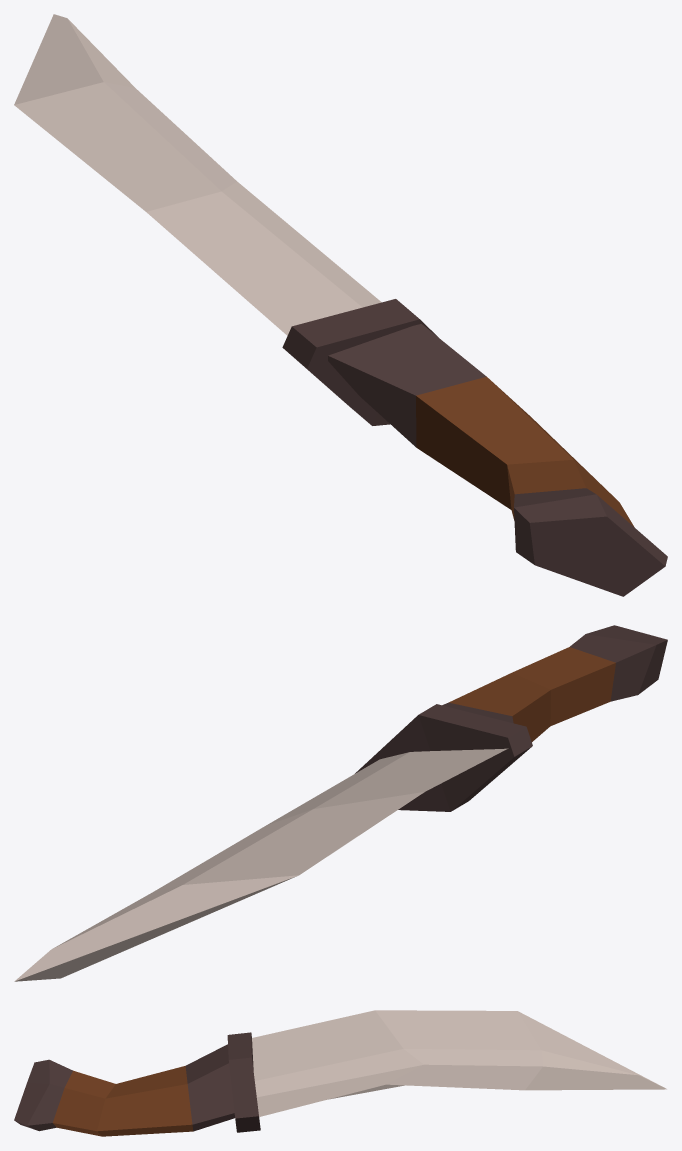
File: DAGGER.fbx
3 views of the same model, one above another, from view 1: azimuth 30°, elevation 25°; view 2: azimuth 150°, elevation 25°; view 3: azimuth 270°, elevation 25° (orthographic). The views are drawn at different scales.
Parts seen in each view (by area): view 1: weapon_sword_throwing.001; view 2: weapon_sword_throwing.001; view 3: weapon_sword_throwing.001.
Boxes of the visible parts, <box> form: weapon_sword_throwing.001: <box>14,14,667,596</box>; weapon_sword_throwing.001: <box>14,625,667,981</box>; weapon_sword_throwing.001: <box>14,1010,666,1136</box>.
Size of the model in its own units: 7.63 by 6.06 by 41.22.
